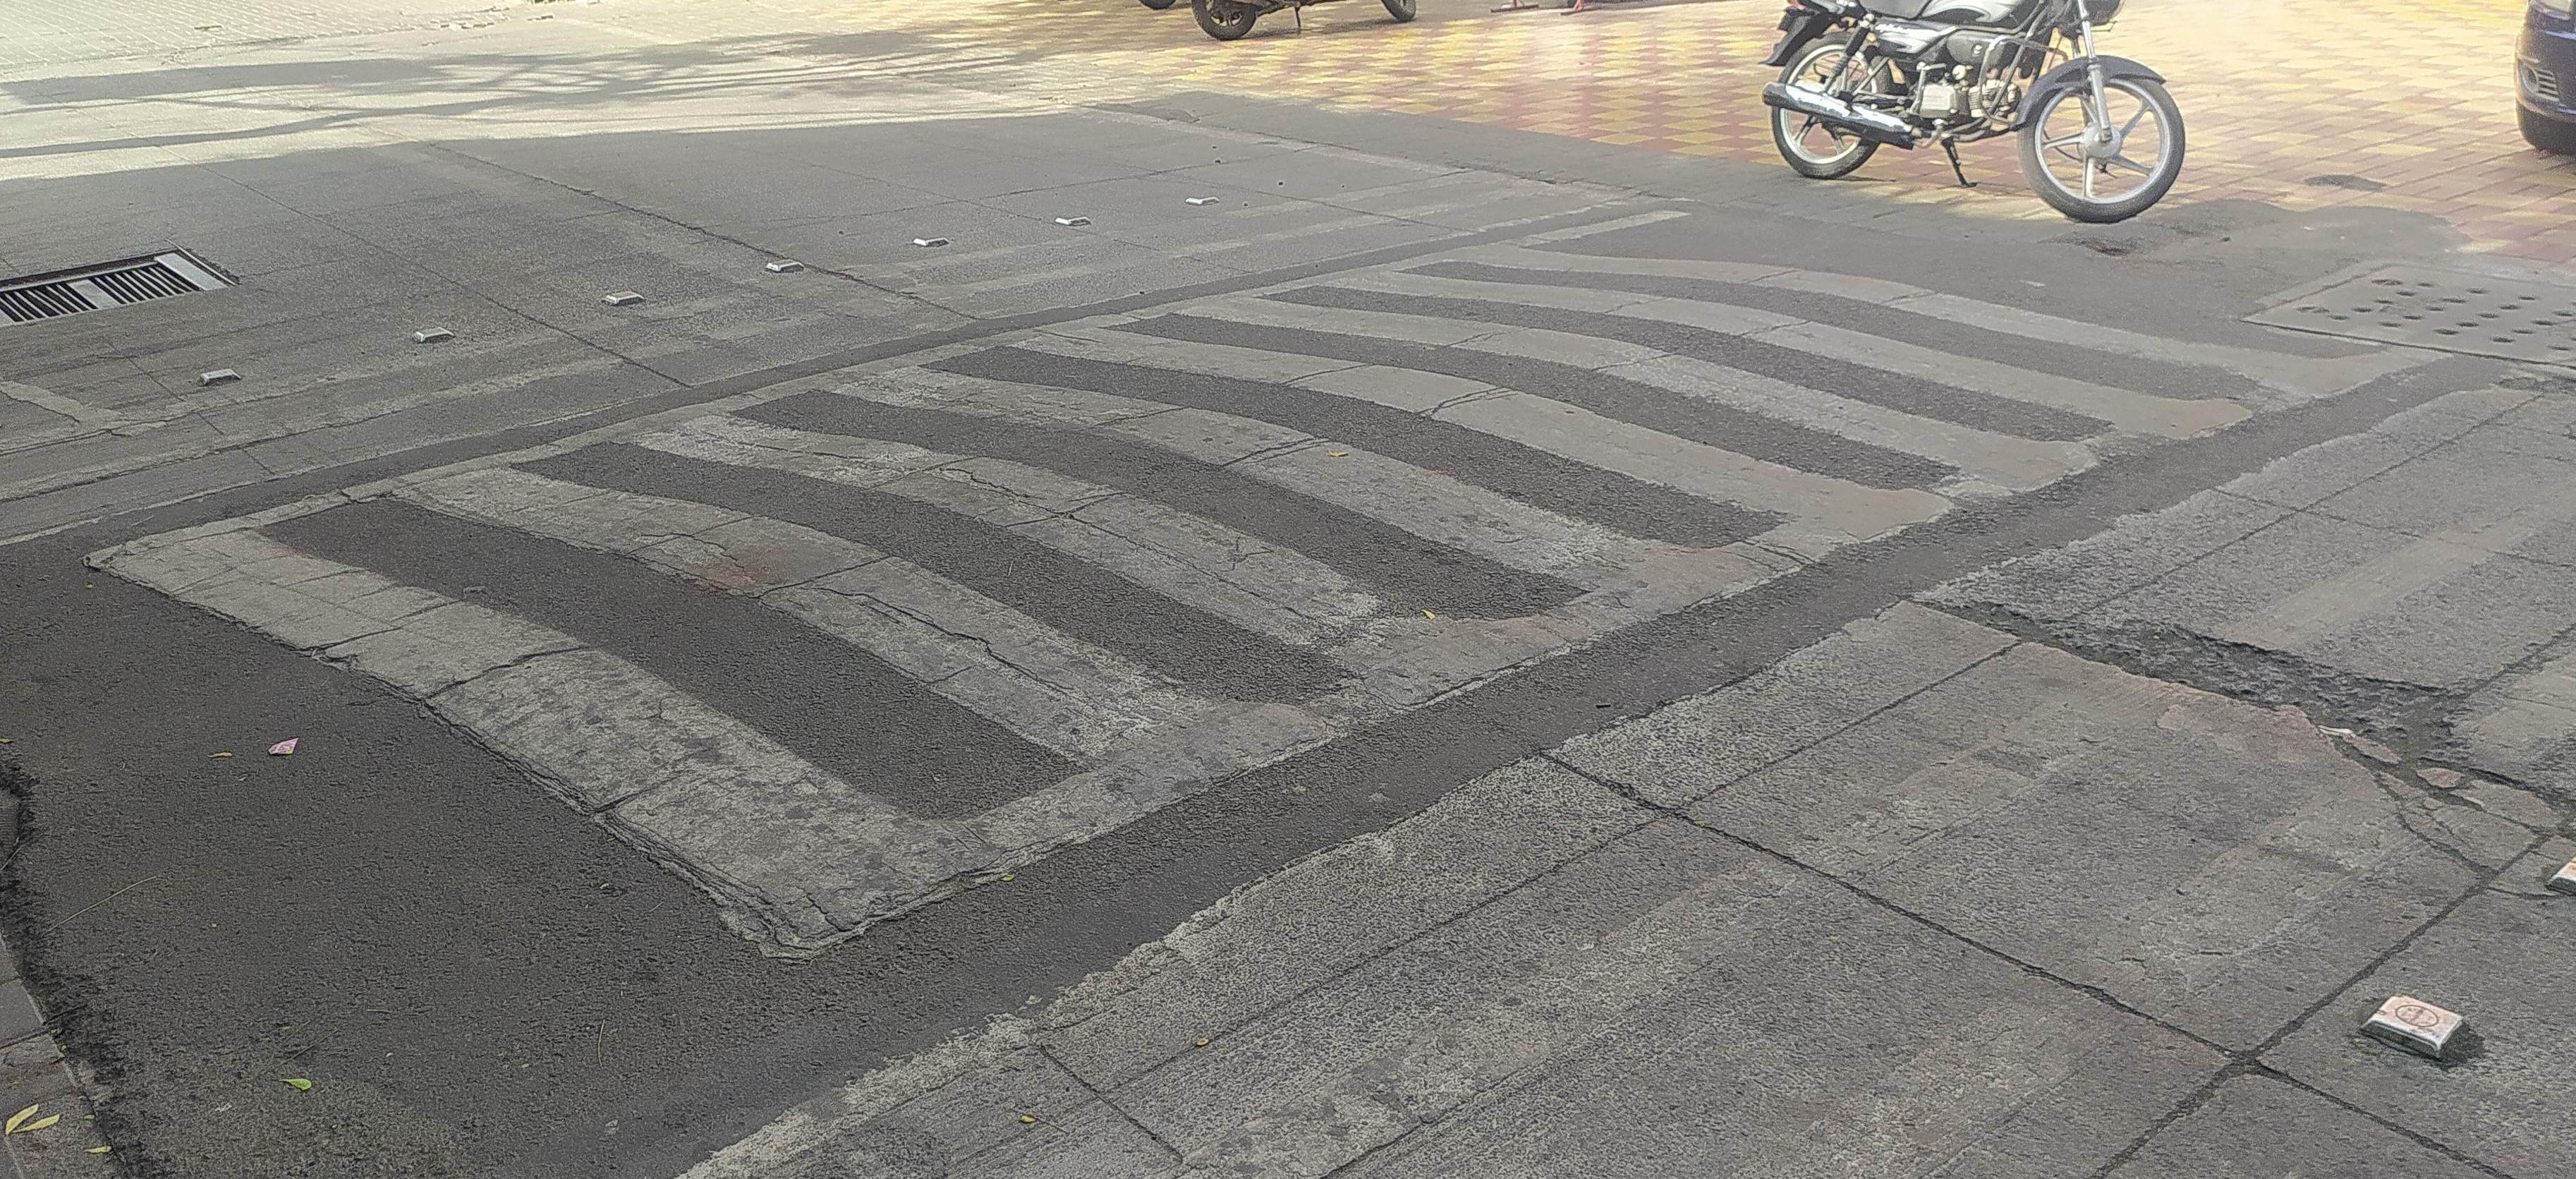speed-bump: (20, 205, 2469, 1173)
